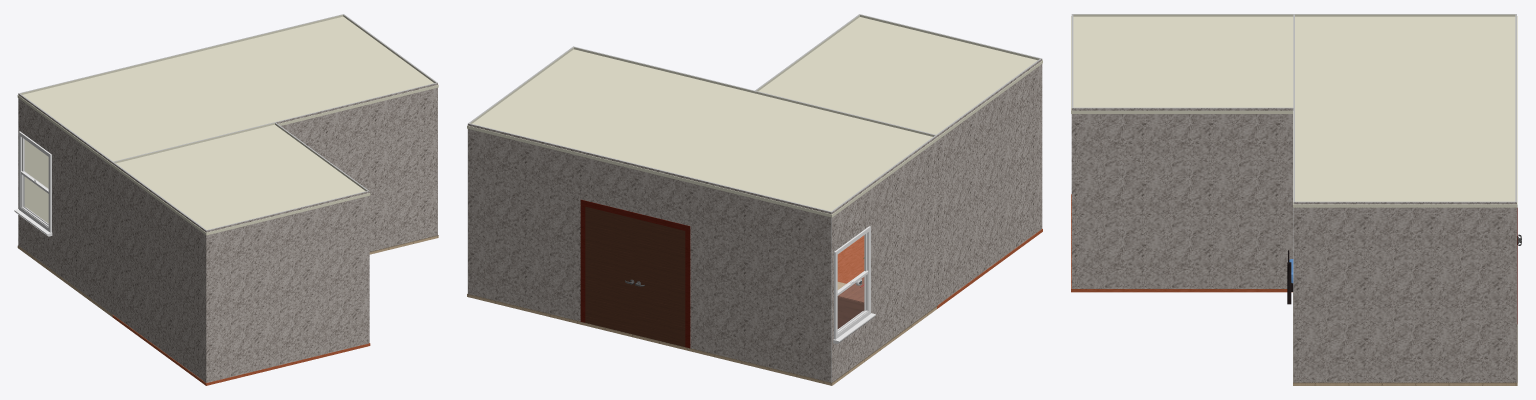
Rendered from ProcTHOR-Train-197.glb.
The picture shows the model from 3 angles, left to right: view 1: azimuth 30°, elevation 25°; view 2: azimuth 150°, elevation 25°; view 3: azimuth 270°, elevation 25°; orthographic projection. The views are drawn at different scales.
Parts seen in each view (by area): view 1: Ceiling#room|2|c, WallInside#wall|exterior|3.31|6.63|6.63|6.63, Ceiling#room|3|c, WallInside#wall|exterior|0.00|3.31|3.31|3.31, WallInside#wall|exterior|6.63|3.31|6.63|6.63, WallInside#wall|exterior|6.63|0.00|6.63|3.31, WallInside#wall|2|0.00|0.00|6.63|0.00, Window_Hung_44x60, Floor#room|3|f, Floor#room|2|f, WallInside#wall|3|3.31|3.31|6.63|3.31; view 2: WallInside#wall|exterior|0.00|0.00|6.63|0.00, Ceiling#room|2|c, Ceiling#room|3|c, WallInside#wall|exterior|6.63|3.31|6.63|6.63, WallInside#wall|exterior|6.63|0.00|6.63|3.31, Doorway_Door_1b, Doorway_Door_1a, Doorway_Double_1, Floor#room|2|f, Window_Hung_44x60, Floor#room|3|f, Desk_308_2_1 (+3 smaller); view 3: Ceiling#room|2|c, WallInside#wall|exterior|0.00|0.00|0.00|3.31, WallInside#wall|exterior|3.31|3.31|3.31|6.63, Ceiling#room|3|c, Floor#room|2|f, Floor#room|3|f, WallInside#wall|2|6.63|0.00|6.63|3.31, WallInside#wall|3|6.63|3.31|6.63|6.63.
Boxes of the visible parts, <box> form: Ceiling#room|2|c: <box>17,16,438,166</box>; WallInside#wall|exterior|3.31|6.63|6.63|6.63: <box>206,191,369,382</box>; Ceiling#room|3|c: <box>112,125,370,235</box>; WallInside#wall|exterior|0.00|3.31|3.31|3.31: <box>276,83,437,251</box>; WallInside#wall|exterior|6.63|3.31|6.63|6.63: <box>112,162,206,382</box>; WallInside#wall|exterior|6.63|0.00|6.63|3.31: <box>18,93,112,313</box>; WallInside#wall|2|0.00|0.00|6.63|0.00: <box>20,14,343,223</box>; Window_Hung_44x60: <box>14,131,52,236</box>; Floor#room|3|f: <box>112,315,370,385</box>; Floor#room|2|f: <box>17,235,438,317</box>; WallInside#wall|3|3.31|3.31|6.63|3.31: <box>113,122,275,163</box>; WallInside#wall|exterior|0.00|0.00|6.63|0.00: <box>468,123,831,382</box>; Ceiling#room|2|c: <box>467,49,937,217</box>; Ceiling#room|3|c: <box>758,17,1042,140</box>; WallInside#wall|exterior|6.63|3.31|6.63|6.63: <box>936,58,1042,305</box>; WallInside#wall|exterior|6.63|0.00|6.63|3.31: <box>832,135,937,382</box>; Doorway_Door_1b: <box>585,206,635,334</box>; Doorway_Door_1a: <box>635,219,685,346</box>; Doorway_Double_1: <box>580,199,690,348</box>; Floor#room|2|f: <box>467,281,937,385</box>; Window_Hung_44x60: <box>833,226,875,343</box>; Floor#room|3|f: <box>837,229,1042,308</box>; Desk_308_2_1: <box>837,277,864,328</box>; Ceiling#room|2|c: <box>1293,16,1517,207</box>; WallInside#wall|exterior|0.00|0.00|0.00|3.31: <box>1293,202,1516,382</box>; WallInside#wall|exterior|3.31|3.31|3.31|6.63: <box>1071,108,1293,288</box>; Ceiling#room|3|c: <box>1071,16,1295,113</box>; Floor#room|2|f: <box>1293,292,1517,385</box>; Floor#room|3|f: <box>1071,194,1292,292</box>; WallInside#wall|2|6.63|0.00|6.63|3.31: <box>1295,14,1516,16</box>; WallInside#wall|3|6.63|3.31|6.63|6.63: <box>1073,14,1293,16</box>.
Size of what is drawn, in the model's own units: 6.77 by 3.02 by 6.73.
123 materials, 55 textured.
